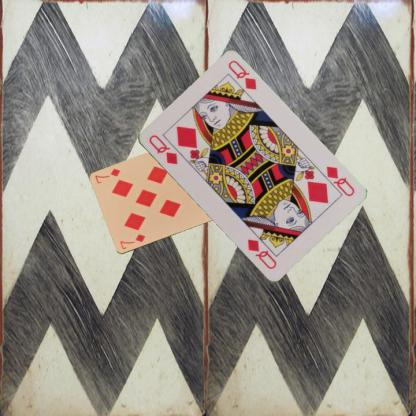7d: (117, 232, 146, 250)
Qd: (315, 164, 356, 198), (146, 132, 178, 166)
